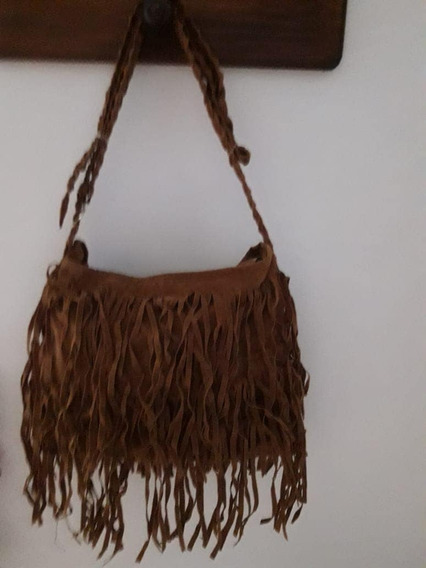cartera: (20, 2, 311, 470)
